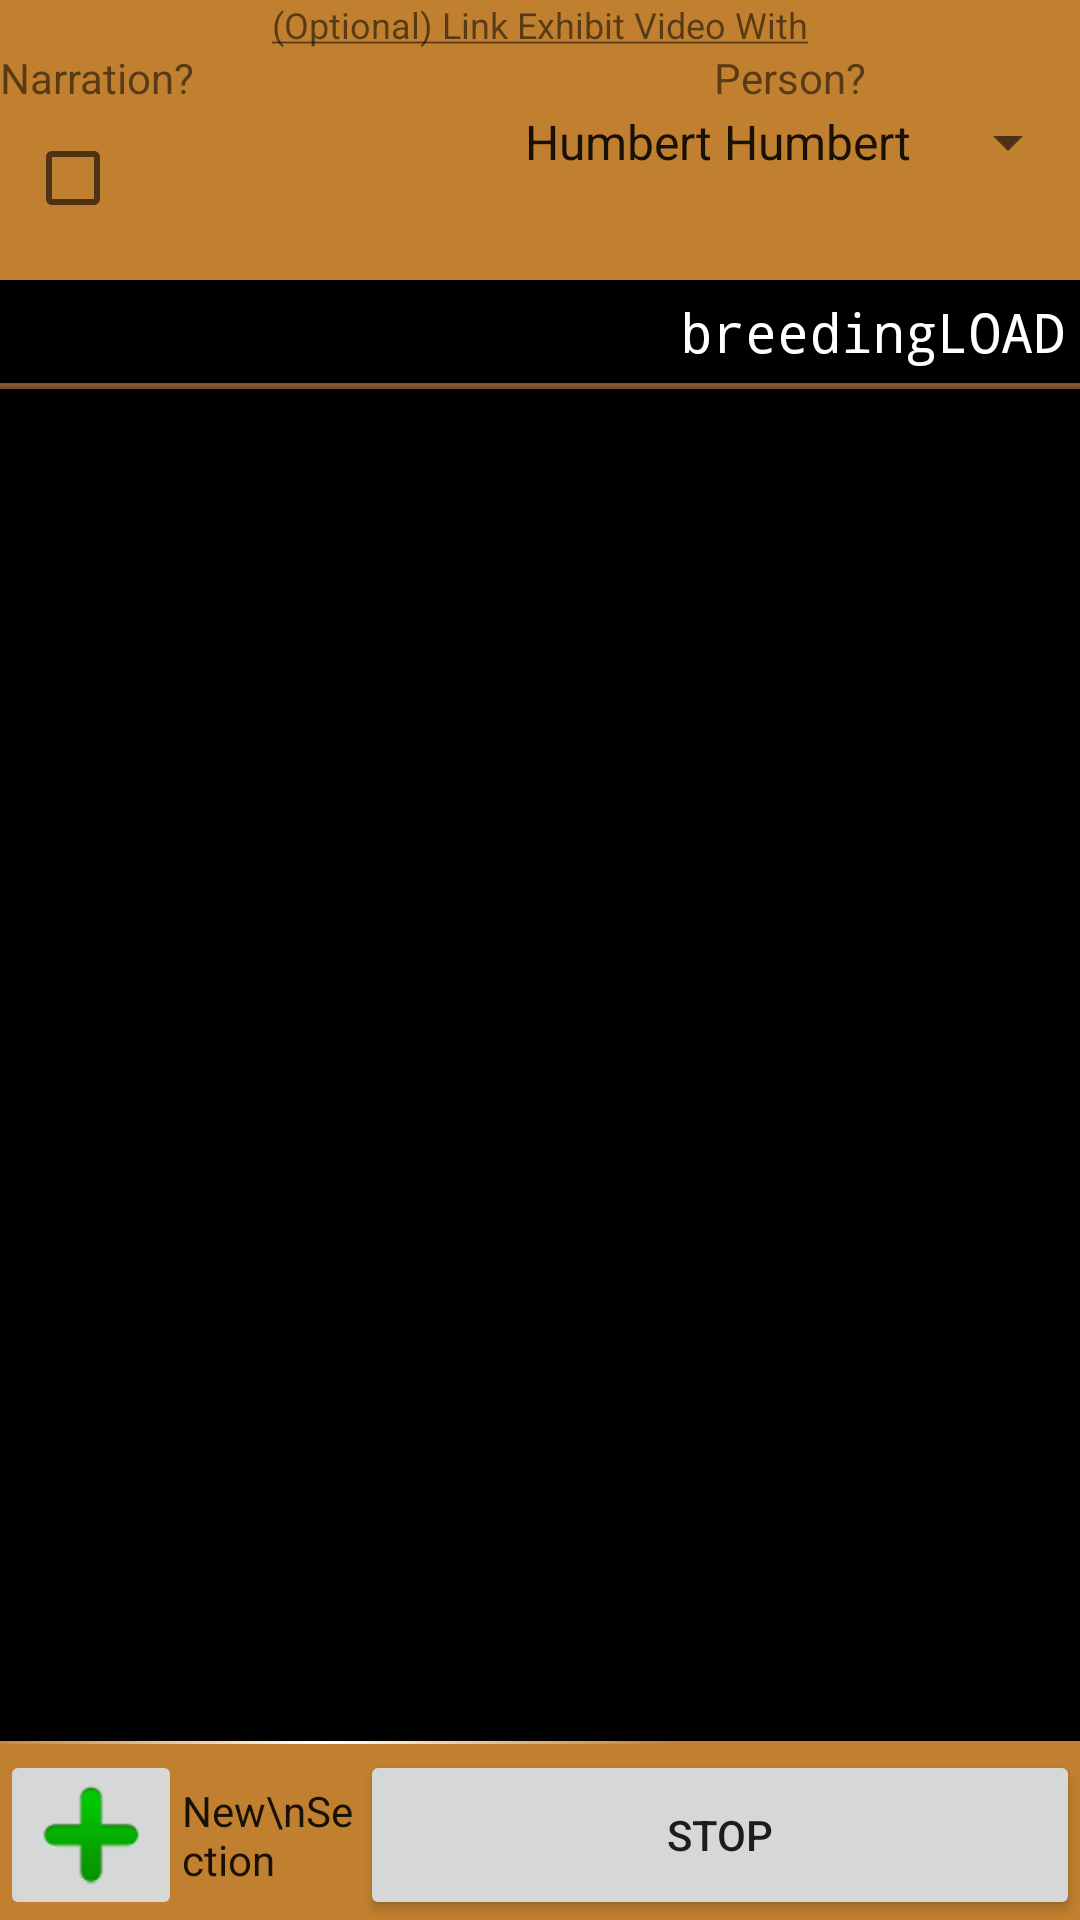

Named icons in this screenshot (1080x1920) and their bounding boxes, region(x1, y1, x2, y2):
plusbutton: region(12, 1768, 170, 1902)
